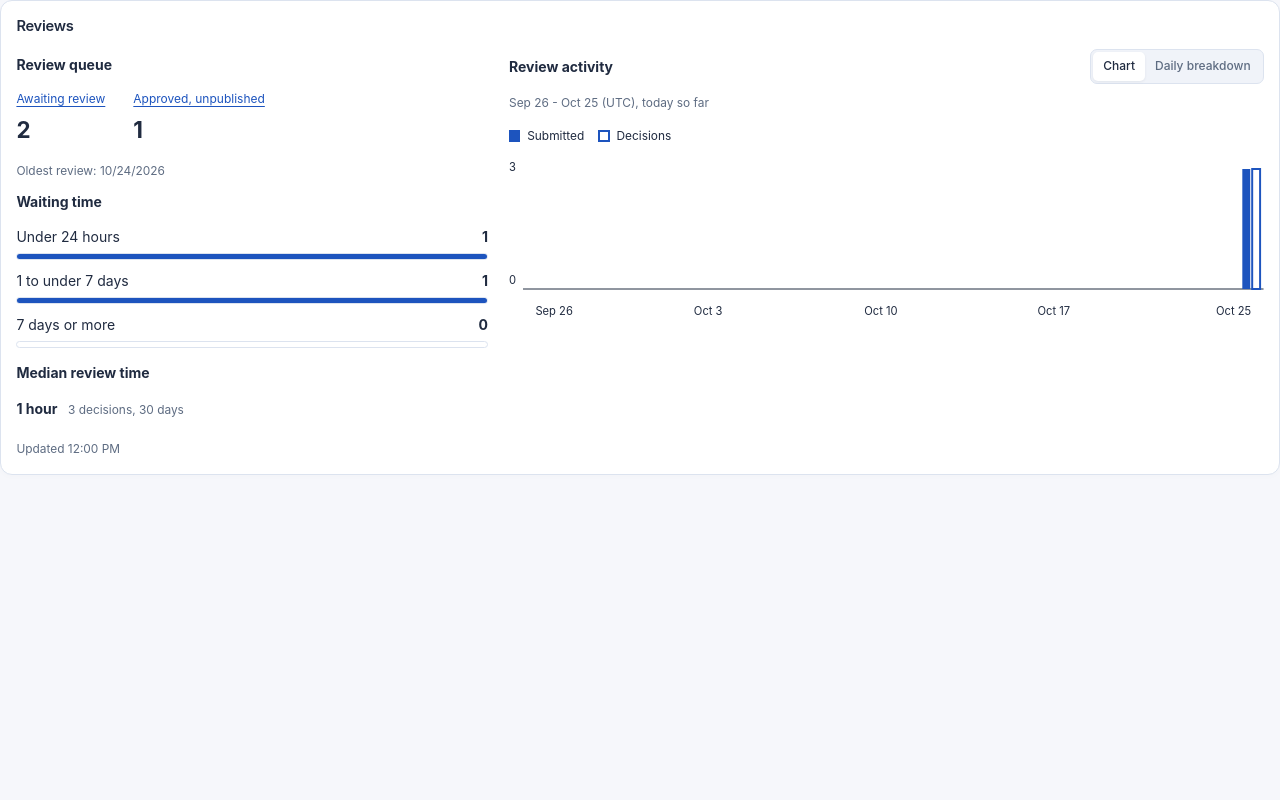
Scenario: shows review counts, exact queue links, a common chart scale and complete tables
Expected: the heading "Median review time" is shown, [16, 364, 150, 381]
Step 1. Click the button "Daily breakdown" → (1203, 66), box [1145, 52, 1261, 81]
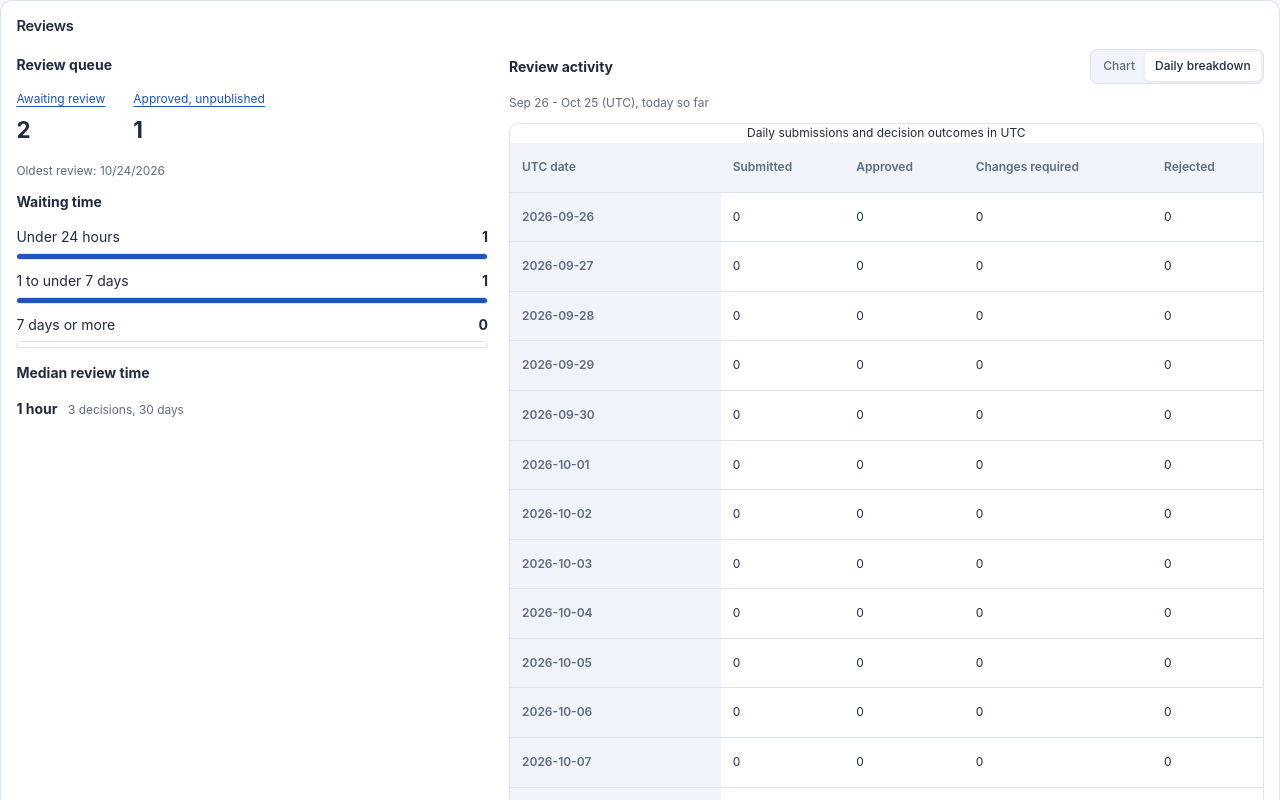
Expected: the number of list items is 3, [16, 226, 488, 260]; [16, 270, 488, 304]; [16, 314, 488, 348]
Expected: the picture is gone
Step 2. Click the button "Chart" → (1119, 66), box [1093, 52, 1145, 81]
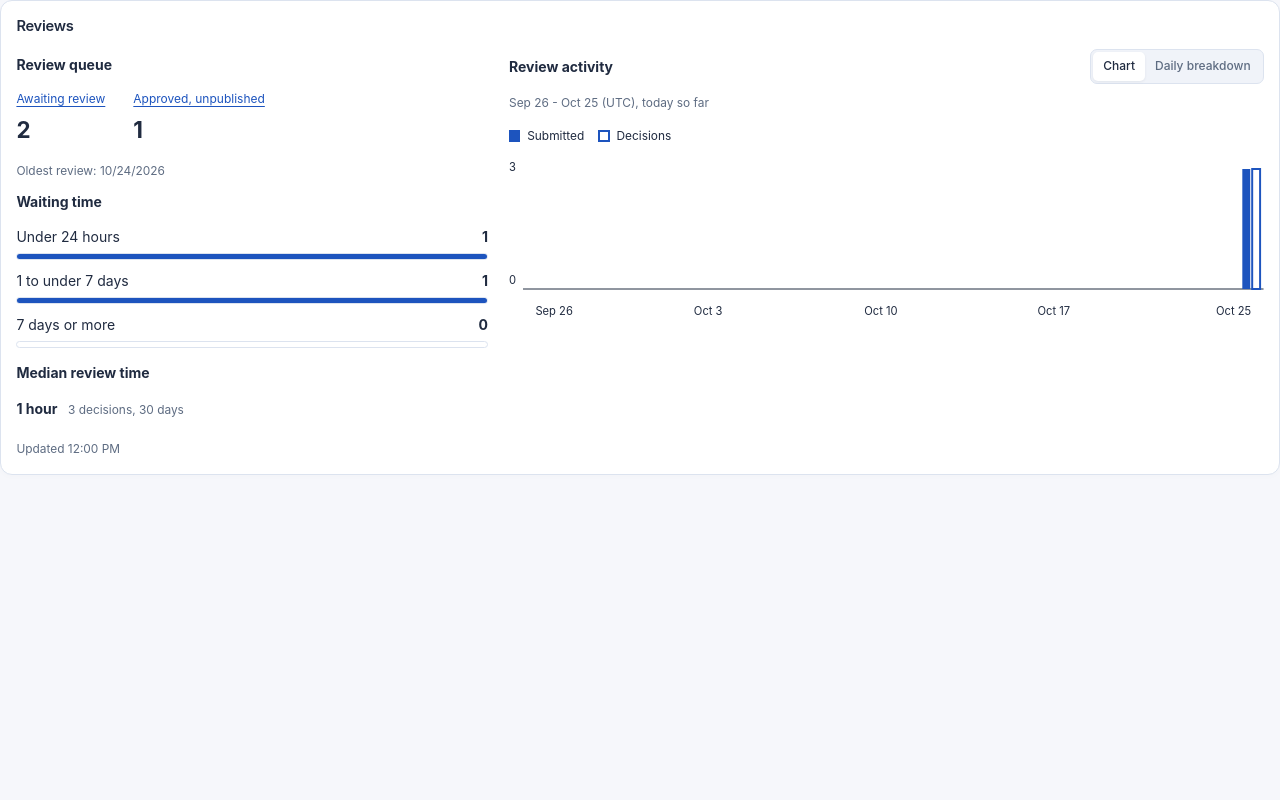
Expected: the picture is shown, [523, 159, 1264, 299]
